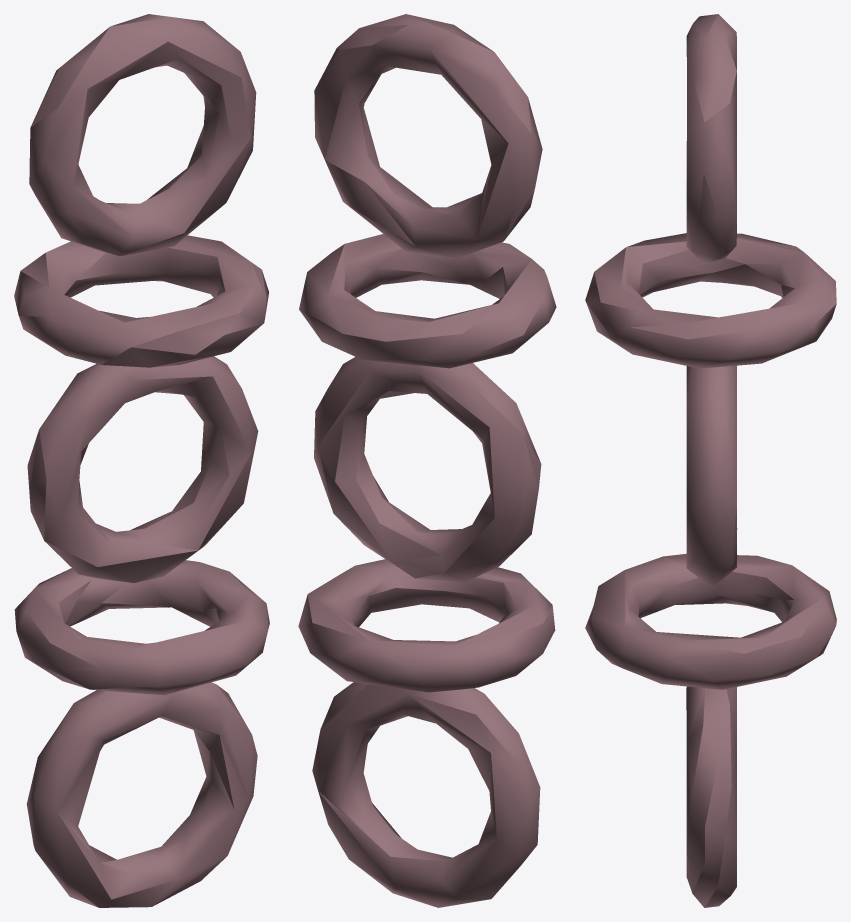
Rendered from SM_Schlachthof_Chain_LOD2.fbx.
3 views of the same model, side by side, from view 1: azimuth 30°, elevation 25°; view 2: azimuth 150°, elevation 25°; view 3: azimuth 270°, elevation 25° (orthographic).
Visible parts, largest first — view 1: SM_Schlachthof_Chain_LOD2; view 2: SM_Schlachthof_Chain_LOD2; view 3: SM_Schlachthof_Chain_LOD2.
Boxes of the visible parts, bbox=[...] form: SM_Schlachthof_Chain_LOD2: bbox=[14, 14, 269, 907]; SM_Schlachthof_Chain_LOD2: bbox=[298, 14, 556, 907]; SM_Schlachthof_Chain_LOD2: bbox=[585, 14, 836, 907].
Size of the model in its own units: 0.603 by 2.27 by 0.5972.
